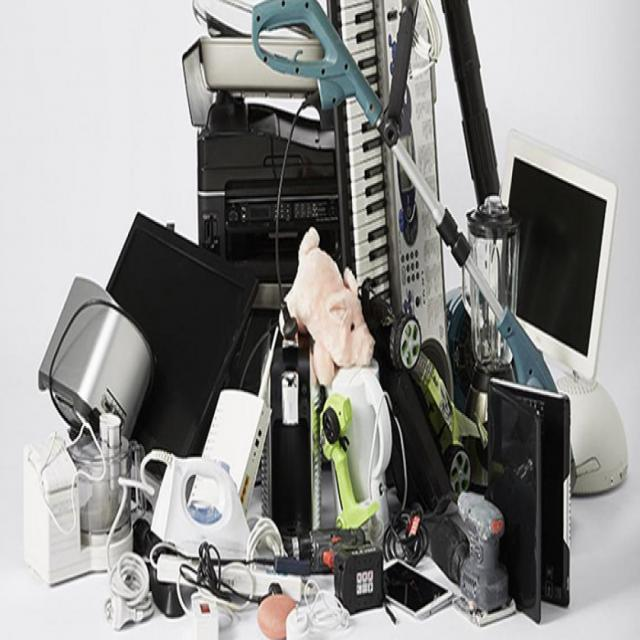heap: (114, 174, 564, 640)
